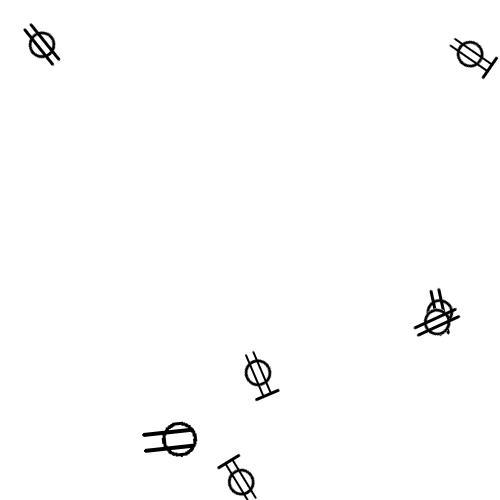Duplex-Receptacle: (142, 422, 201, 458), (232, 358, 284, 391), (215, 464, 267, 497), (445, 39, 497, 72), (412, 296, 465, 327), (14, 29, 67, 60), (410, 308, 463, 339)
